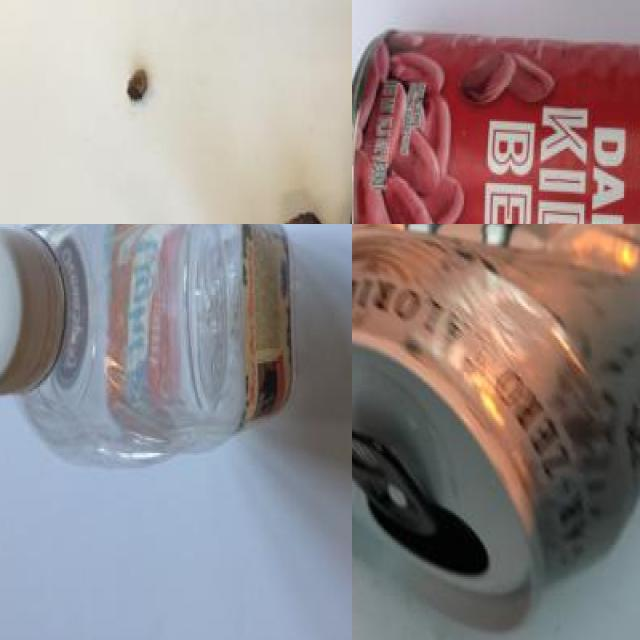compost: (83, 53, 352, 224)
plastic: (352, 224, 640, 630), (0, 224, 303, 467), (352, 4, 640, 224)
